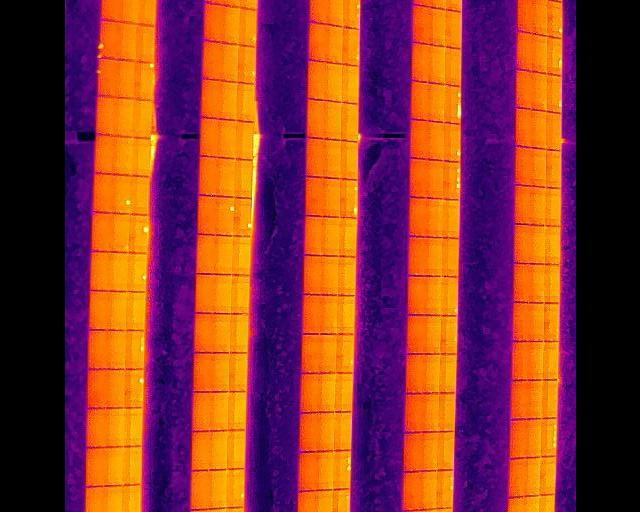Cell: (97, 59, 121, 98), (112, 174, 132, 214), (214, 197, 234, 235), (225, 470, 243, 508), (233, 198, 250, 236), (342, 28, 359, 66), (440, 277, 456, 316), (137, 62, 153, 101), (444, 123, 460, 161), (132, 253, 147, 292), (546, 74, 561, 113), (132, 215, 147, 253), (546, 37, 561, 75), (129, 369, 143, 407), (547, 1, 561, 38)
Cell-Multi: (98, 20, 121, 59), (332, 451, 350, 490), (340, 179, 357, 218), (435, 470, 452, 508), (129, 330, 145, 369), (443, 161, 459, 199), (540, 419, 555, 457), (342, 0, 359, 29)
No-Anomaly: (87, 290, 111, 330), (96, 96, 120, 135), (85, 330, 109, 369), (108, 290, 131, 330), (89, 252, 112, 291), (102, 408, 124, 448), (95, 135, 117, 175), (86, 369, 108, 408), (412, 3, 432, 43), (117, 136, 137, 176), (406, 237, 426, 276), (101, 447, 121, 486), (84, 408, 104, 447), (297, 451, 316, 492), (118, 97, 137, 138), (109, 369, 128, 410), (202, 4, 222, 42), (198, 156, 217, 196), (196, 196, 215, 236), (110, 330, 129, 370), (93, 175, 112, 215), (84, 448, 103, 488), (202, 41, 221, 80), (191, 431, 210, 470), (189, 470, 208, 509), (403, 354, 422, 393), (321, 139, 340, 178), (300, 374, 319, 413), (123, 408, 142, 447), (121, 446, 140, 485), (113, 214, 132, 253), (112, 252, 131, 291), (421, 276, 440, 314), (211, 275, 230, 313), (191, 393, 210, 431), (411, 42, 429, 82), (227, 353, 245, 393), (216, 158, 234, 198), (213, 234, 231, 274), (192, 353, 210, 393), (409, 119, 427, 159), (322, 178, 340, 218), (318, 334, 336, 374), (314, 451, 332, 491), (299, 414, 317, 454), (324, 62, 341, 104), (93, 215, 112, 252), (421, 315, 439, 354), (234, 122, 252, 161), (230, 275, 248, 314), (228, 314, 246, 353), (216, 120, 234, 159), (207, 469, 225, 508), (199, 118, 217, 157), (192, 314, 210, 353), (409, 158, 427, 197), (402, 433, 420, 472), (401, 393, 419, 432), (307, 24, 325, 63), (304, 138, 322, 177), (303, 295, 321, 334), (307, 60, 324, 101), (427, 122, 445, 160), (235, 83, 253, 121), (234, 160, 252, 198), (231, 237, 249, 275), (210, 314, 228, 352), (337, 257, 355, 295), (336, 296, 354, 334), (306, 100, 324, 138), (197, 235, 214, 275), (409, 197, 426, 237), (321, 217, 338, 257), (304, 256, 321, 296), (236, 47, 254, 84), (443, 47, 460, 86), (443, 10, 460, 49), (436, 393, 453, 432), (436, 431, 453, 470), (419, 393, 436, 432), (411, 81, 428, 120), (221, 6, 238, 45), (219, 42, 236, 81), (218, 81, 235, 120), (210, 431, 227, 470), (403, 472, 420, 511), (338, 218, 355, 257), (336, 334, 353, 373), (333, 411, 350, 450), (324, 101, 341, 140), (318, 374, 335, 413), (304, 217, 321, 256), (121, 60, 138, 99), (427, 83, 444, 121), (238, 8, 255, 46), (227, 393, 244, 431), (209, 392, 226, 430), (202, 80, 219, 118), (335, 373, 352, 411), (325, 25, 342, 63), (513, 71, 530, 109), (195, 274, 211, 314), (305, 177, 321, 217), (302, 335, 318, 375), (121, 22, 137, 62), (513, 185, 529, 225), (508, 458, 524, 498), (440, 315, 456, 354), (438, 354, 454, 393), (426, 160, 442, 199), (422, 354, 438, 393), (419, 432, 435, 471), (227, 431, 243, 470), (211, 353, 227, 392), (342, 65, 358, 104), (341, 141, 357, 180), (340, 102, 356, 141), (320, 295, 336, 334), (542, 342, 558, 381), (540, 380, 556, 419), (516, 32, 532, 71), (513, 225, 529, 264), (512, 264, 528, 303), (512, 303, 528, 342), (530, 73, 546, 111), (129, 293, 145, 331), (515, 109, 531, 147), (514, 147, 530, 185), (429, 45, 444, 85), (510, 380, 525, 420), (510, 420, 525, 460), (138, 25, 154, 62), (441, 199, 456, 238), (429, 7, 444, 46), (426, 198, 441, 237), (420, 471, 435, 510), (529, 226, 544, 265), (529, 264, 544, 303), (528, 303, 543, 342), (526, 380, 541, 419), (525, 419, 540, 458), (133, 176, 148, 215), (525, 457, 540, 496), (406, 276, 421, 315), (406, 314, 421, 353), (544, 226, 559, 265), (543, 265, 558, 304), (322, 256, 337, 295), (318, 412, 333, 451), (539, 457, 554, 496), (442, 238, 457, 276), (531, 34, 546, 72), (545, 150, 560, 188), (545, 188, 560, 226), (543, 304, 558, 342), (512, 343, 527, 381), (545, 113, 560, 150), (427, 237, 441, 276), (531, 111, 545, 150), (531, 148, 545, 187), (530, 188, 544, 227), (527, 342, 541, 381), (136, 100, 150, 139), (135, 138, 149, 177), (101, 486, 122, 512), (532, 0, 547, 36), (121, 485, 141, 512), (137, 0, 156, 26), (516, 0, 531, 32), (84, 487, 103, 512), (101, 0, 121, 23), (120, 0, 138, 25), (308, 0, 326, 24), (326, 0, 342, 26), (314, 490, 332, 512), (332, 490, 349, 512), (296, 490, 313, 512), (538, 495, 554, 512), (508, 496, 524, 512), (524, 496, 538, 512), (445, 0, 460, 11), (238, 0, 255, 8), (431, 0, 445, 9)
Unclassified: (444, 85, 460, 124)
